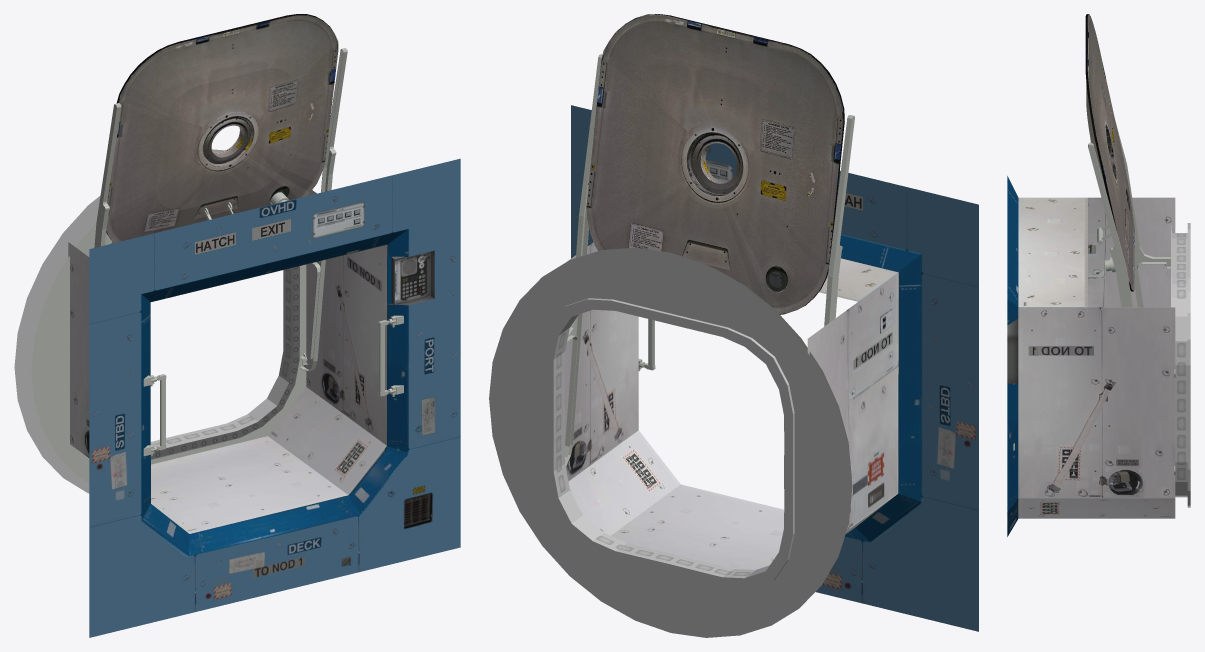
File: US_Lab_AftEnd.C.dae
The picture shows the model from 3 angles, left to right: view 1: azimuth 30°, elevation 25°; view 2: azimuth 150°, elevation 25°; view 3: azimuth 270°, elevation 25°; orthographic projection. The views are drawn at different scales.
Parts seen in each view (by area): view 1: node; view 2: node; view 3: node.
Part boxes in pixels (x1,y1,x2,y2): node: (14, 14, 460, 637); node: (489, 14, 978, 637); node: (1007, 14, 1190, 536).
Bounding box in the file's own units: 2.26 × 3.1 × 1.02.
